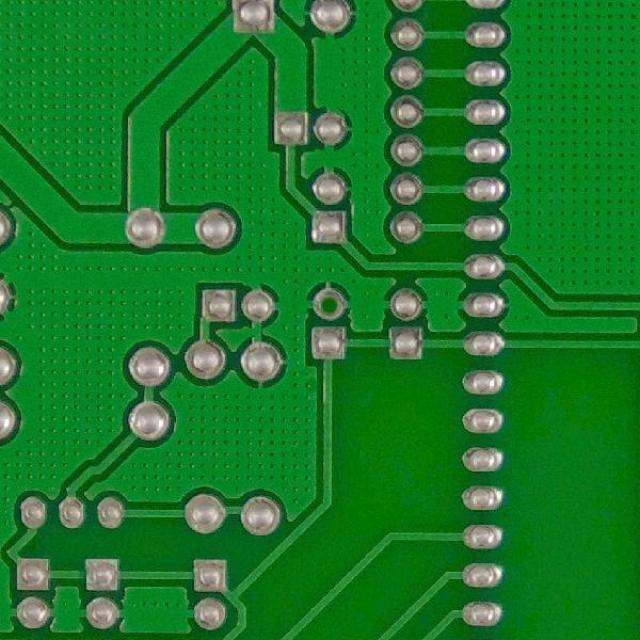Missing_Hole: (310, 288, 344, 321)
